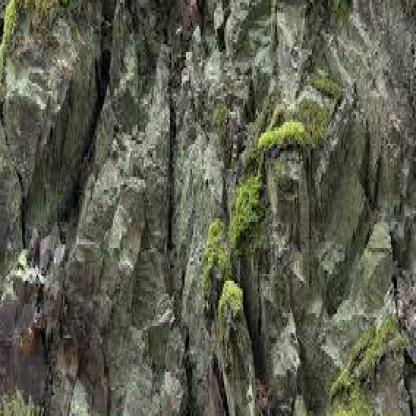Metamorphic_Quartize: (81, 60, 177, 413)
